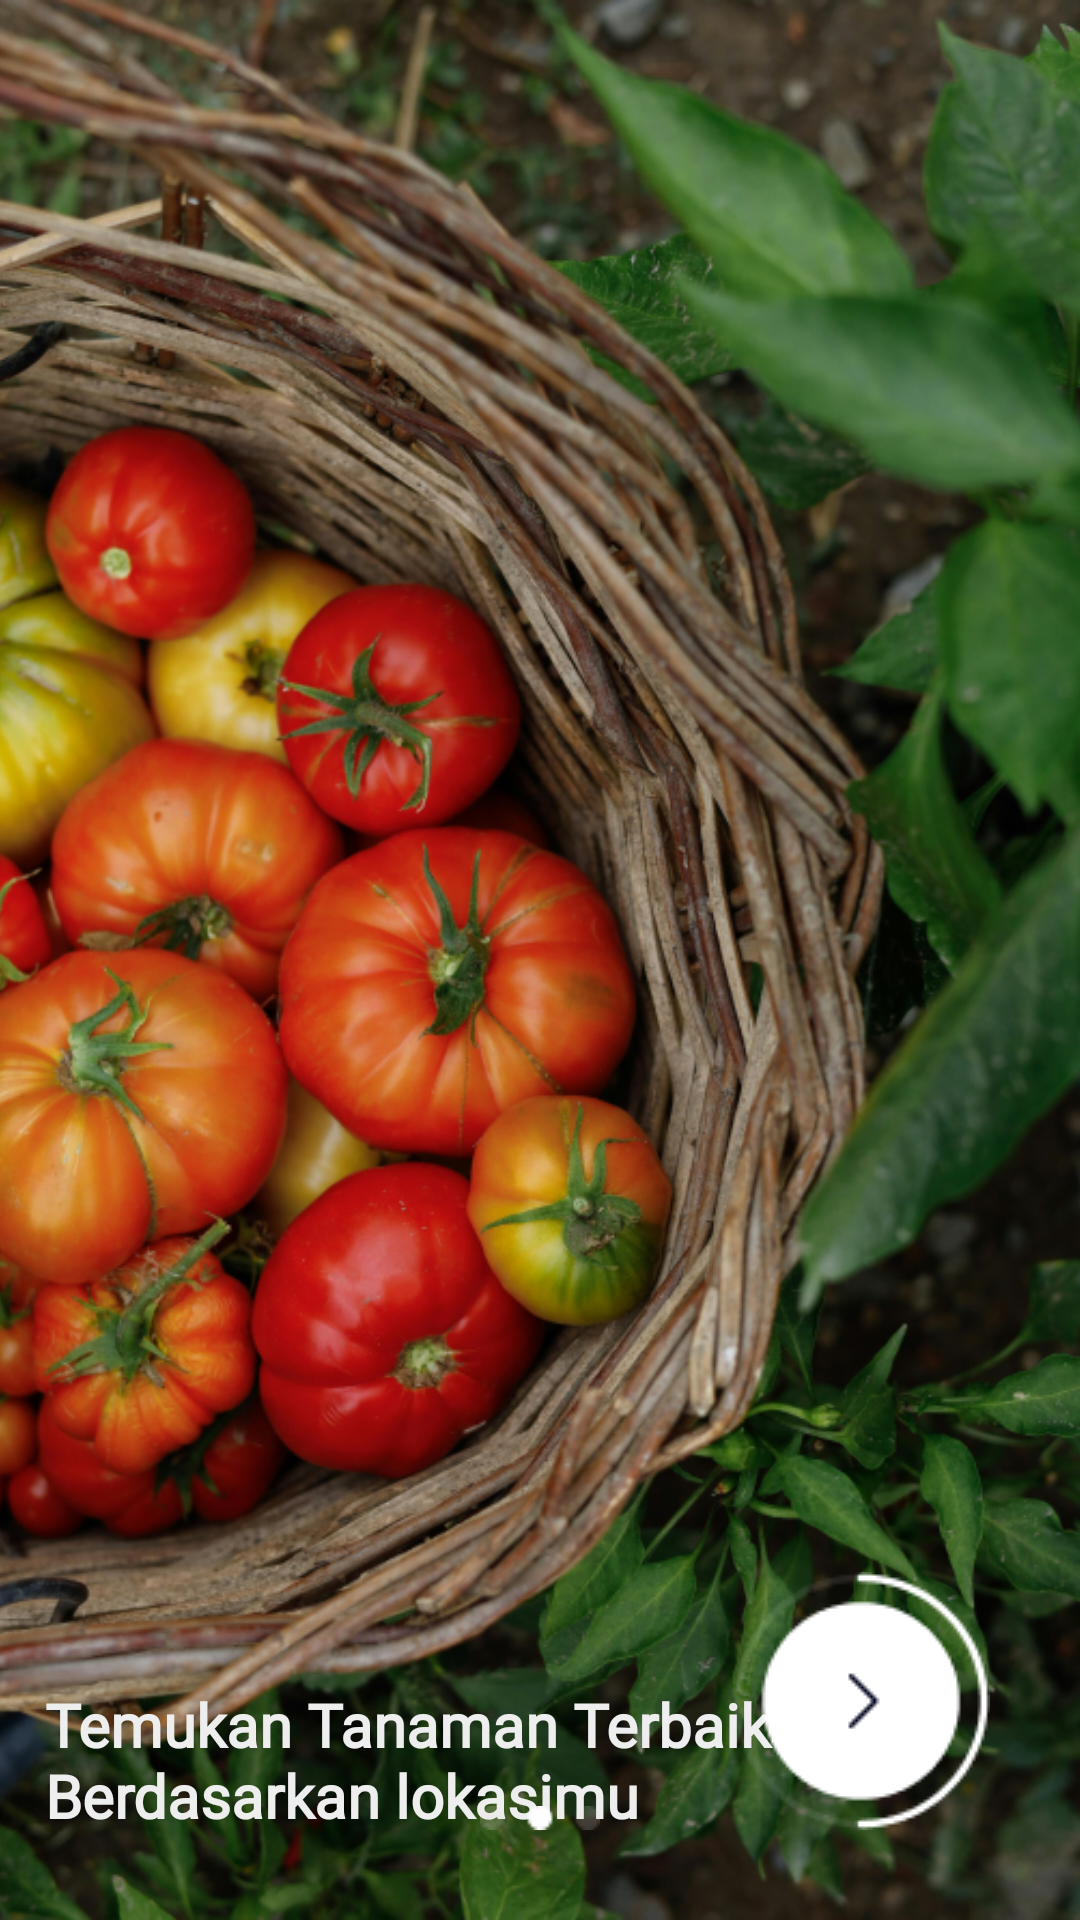

Named icons in this screenshot (1080w x 1920h) and their centers, (x=x, y=y):
next: (x=861, y=1701)
